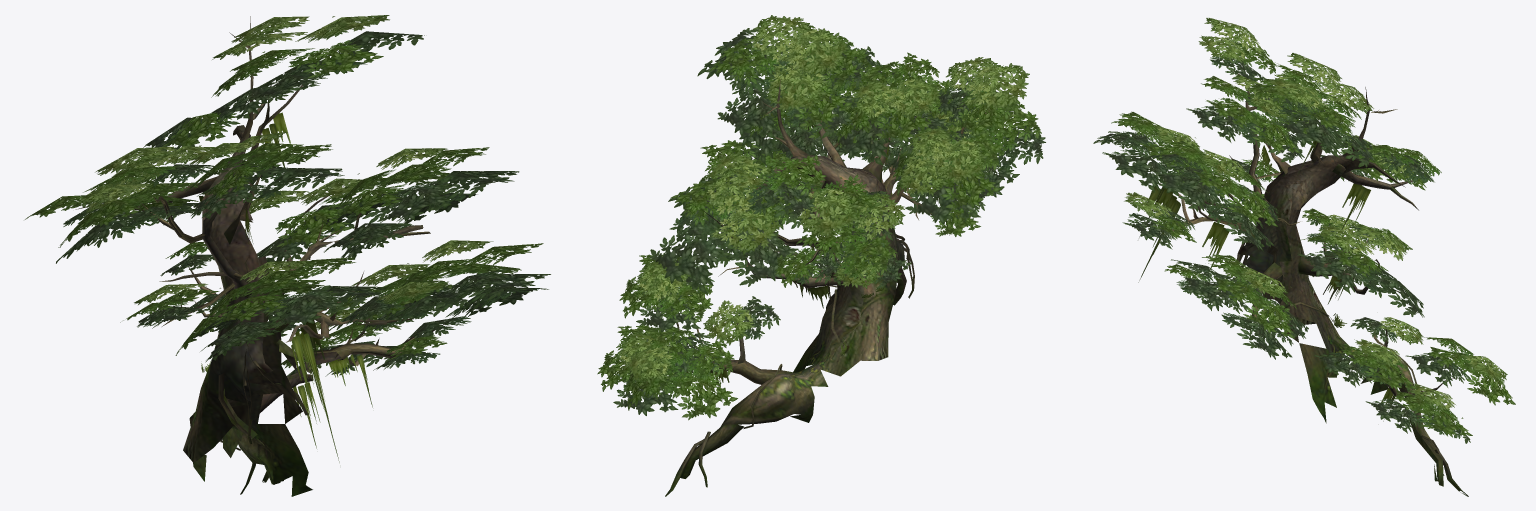
The model's file is S_Tree_Green146_H2.FBX.
3 views of the same model, side by side, from view 1: azimuth 30°, elevation 25°; view 2: azimuth 150°, elevation 25°; view 3: azimuth 270°, elevation 25° (orthographic). The views are drawn at different scales.
Visible parts, largest first — view 1: S_Tree_Green146_H2; view 2: S_Tree_Green146_H2; view 3: S_Tree_Green146_H2.
Boxes of the visible parts, x1,y1,x2,y2 form: S_Tree_Green146_H2: [25, 15, 550, 496]; S_Tree_Green146_H2: [597, 15, 1045, 496]; S_Tree_Green146_H2: [1093, 18, 1515, 496].
Size of the model in its own units: 1002 by 1120 by 1091.
